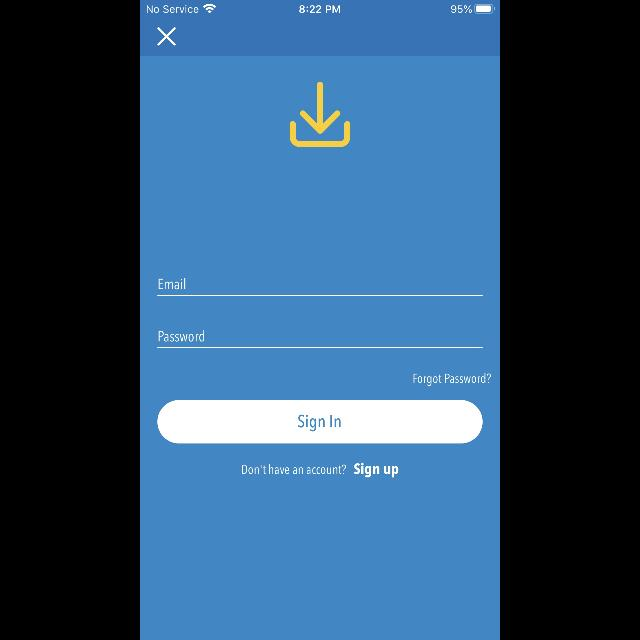icon: (158, 28, 176, 46)
image: (290, 82, 350, 148)
input: (158, 330, 482, 348), (158, 278, 482, 296)
text: (242, 464, 346, 474), (414, 374, 491, 386), (354, 462, 398, 478), (159, 331, 205, 342), (158, 278, 186, 290)
textbutton: (158, 401, 482, 444)
uppertaskbar: (140, 0, 500, 14)
